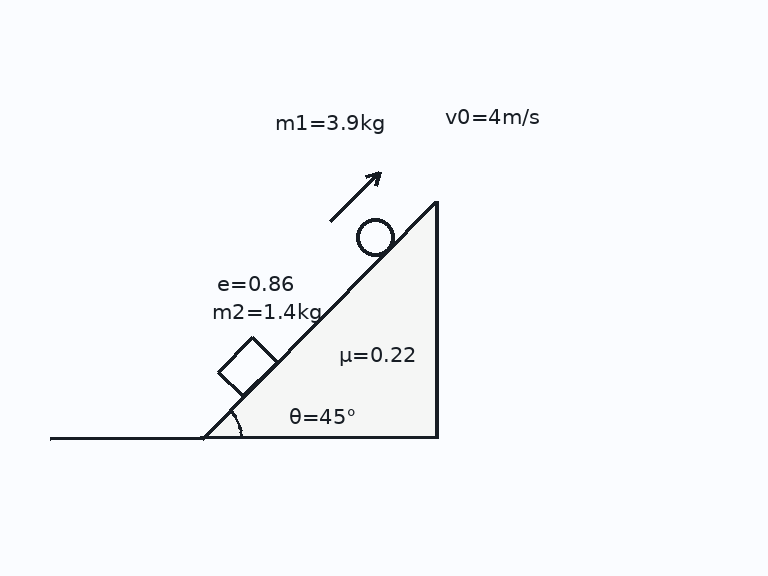ball: (354, 216, 396, 258)
block: (215, 335, 279, 399)
ramp: (199, 201, 438, 440)
